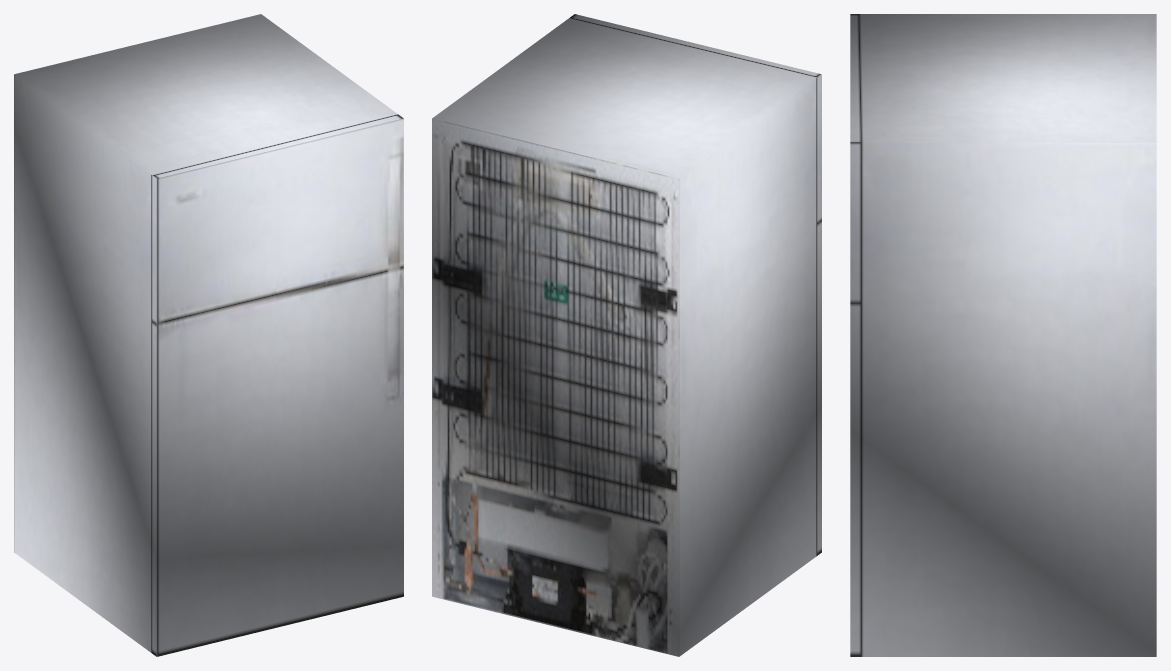
Rendered from Fridge.fbx_Scene.fbx.
3 renders of one model, left to right at view 1: azimuth 30°, elevation 25°; view 2: azimuth 150°, elevation 25°; view 3: azimuth 270°, elevation 25°, orthographic. The views are drawn at different scales.
Visible parts, largest first — view 1: Fridge; view 2: Fridge; view 3: Fridge.
Boxes of the visible parts, bbox=[...] form: Fridge: bbox=[14, 14, 403, 656]; Fridge: bbox=[432, 14, 821, 656]; Fridge: bbox=[850, 14, 1156, 656].
Size of the model in its own units: 102 by 188 by 102.
2 materials, 2 textured.
